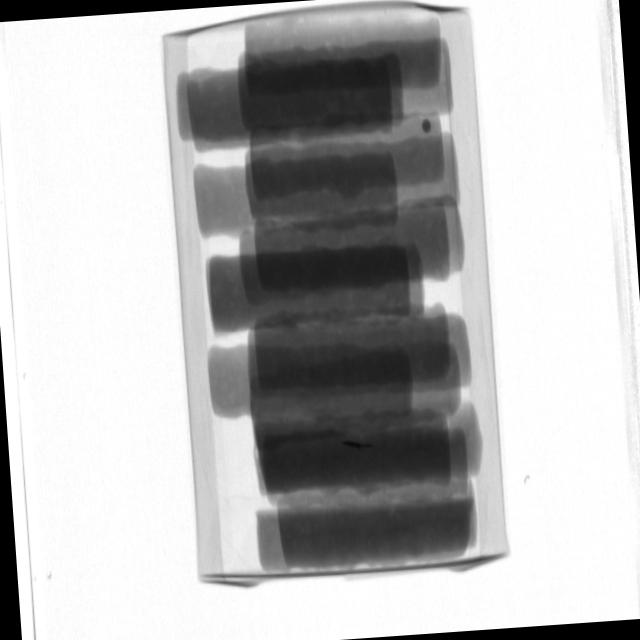ym: (343, 438, 377, 450), (422, 120, 431, 134)
